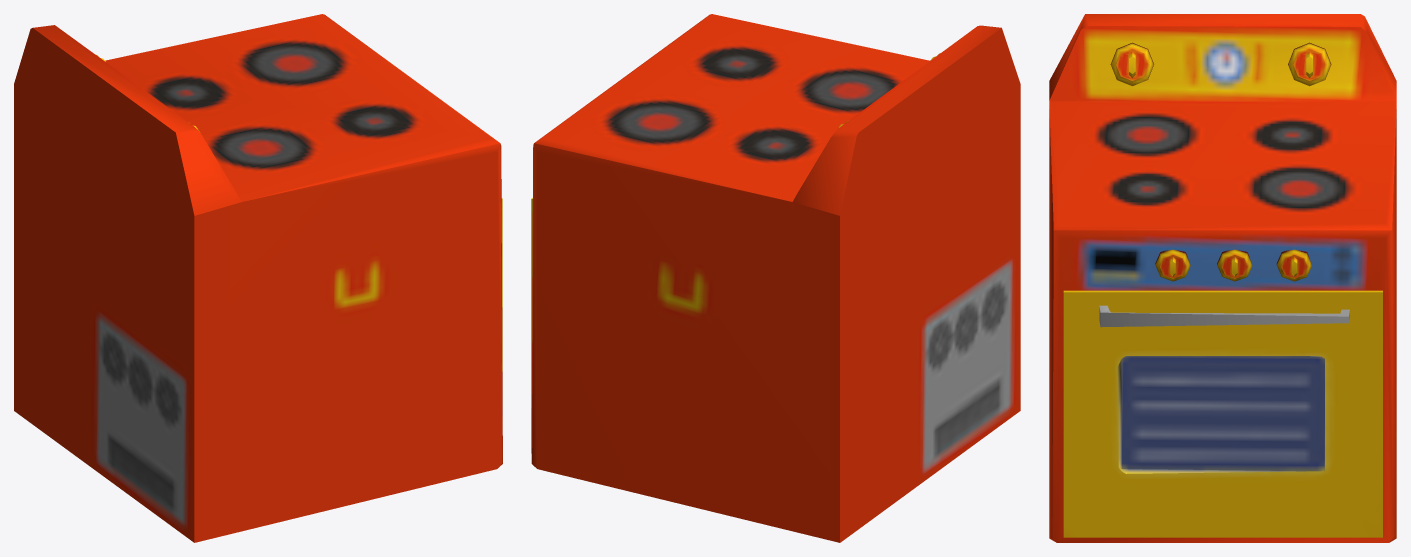
File: hw_pop_oven.glb
3 views of the same model, side by side, from view 1: azimuth 30°, elevation 25°; view 2: azimuth 150°, elevation 25°; view 3: azimuth 270°, elevation 25° (orthographic). The views are drawn at different scales.
Visible parts, largest first — view 1: polySurface23_Kitchen_oven_0; view 2: polySurface23_Kitchen_oven_0; view 3: polySurface23_Kitchen_oven_0.
Boxes of the visible parts, left/top/right/bottom form: polySurface23_Kitchen_oven_0: left=14, top=14, right=502, bottom=542; polySurface23_Kitchen_oven_0: left=531, top=14, right=1020, bottom=542; polySurface23_Kitchen_oven_0: left=1049, top=14, right=1396, bottom=542.
Bounding box in the file's own units: 1 × 1.15 × 0.9465.
Materials: 1 (1 with a texture image).
